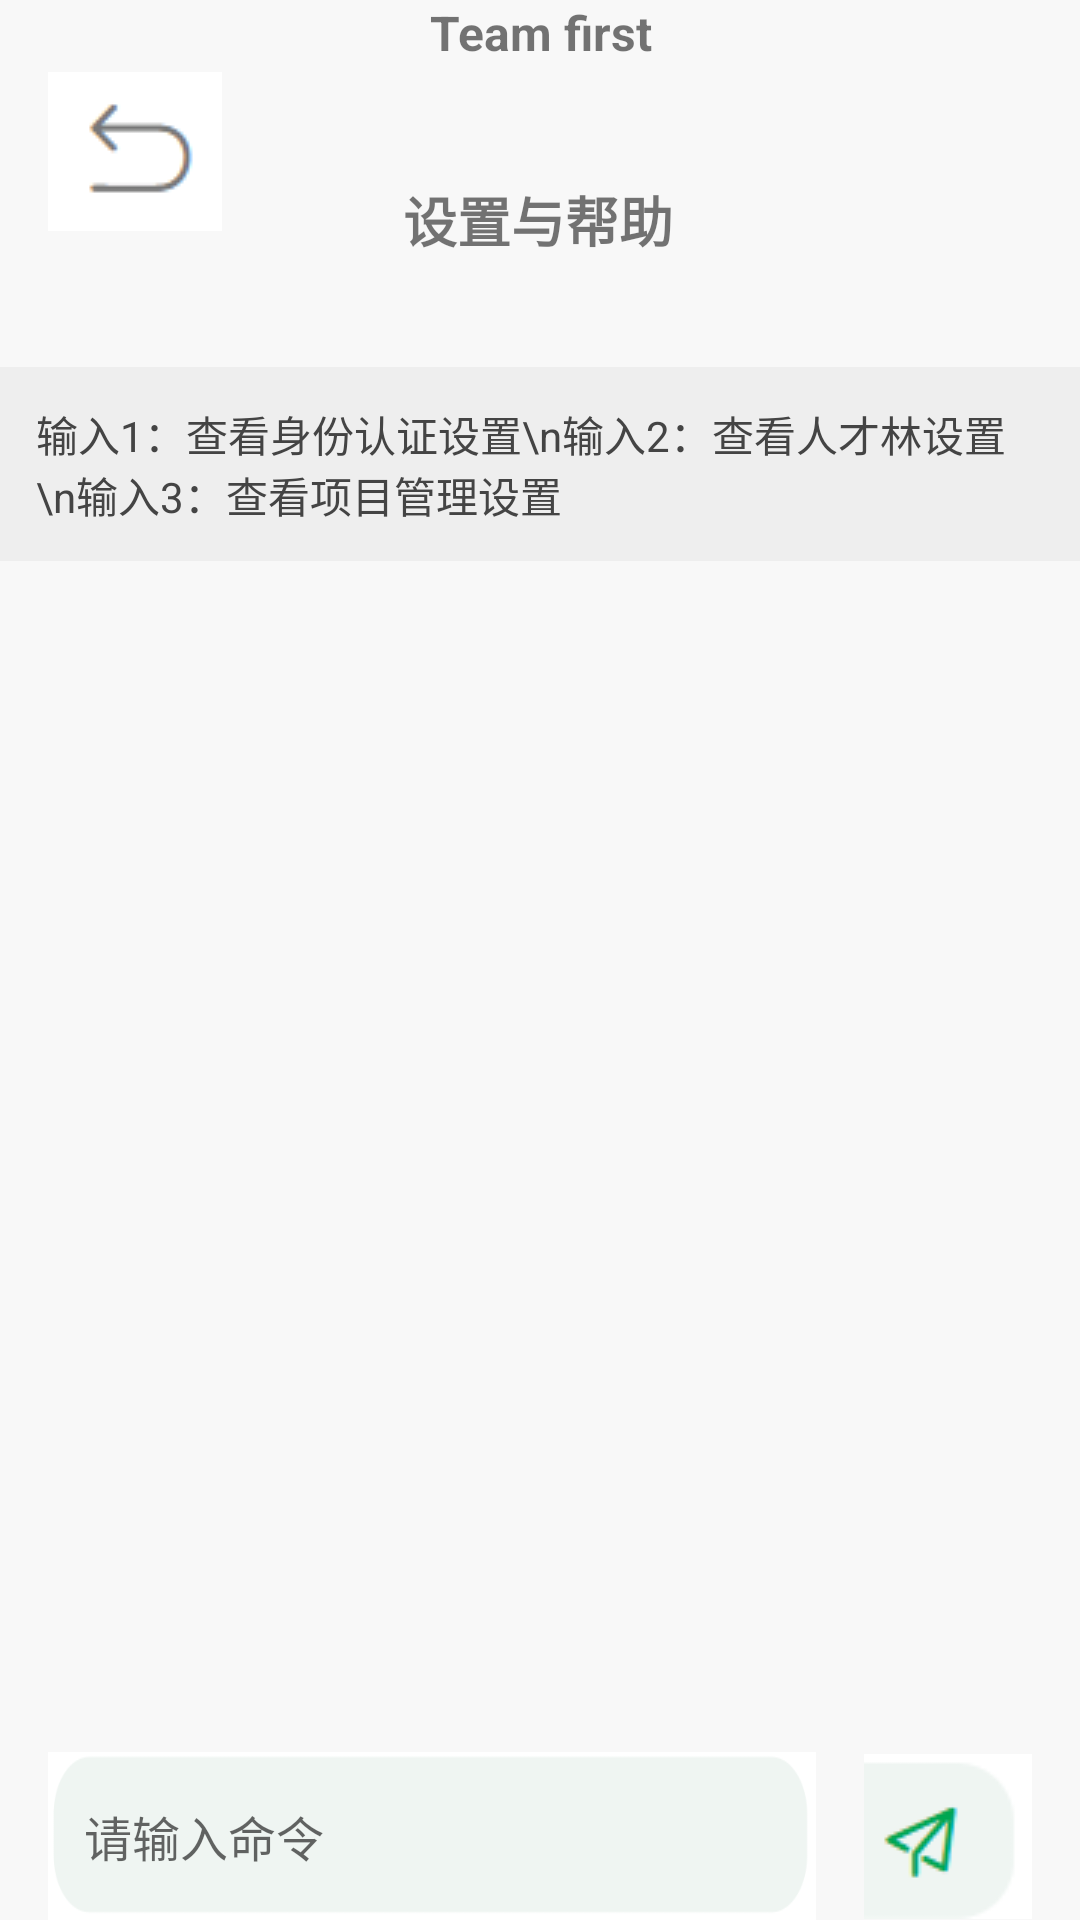

Icons on this 1080 × 1920 Android screen, each with its box as (x1, y1, x2, y2):
back: (89, 104, 193, 193)
send: (884, 1807, 958, 1878)
